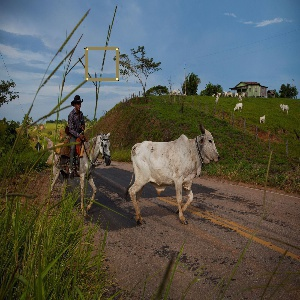square: (83, 45, 120, 82)
